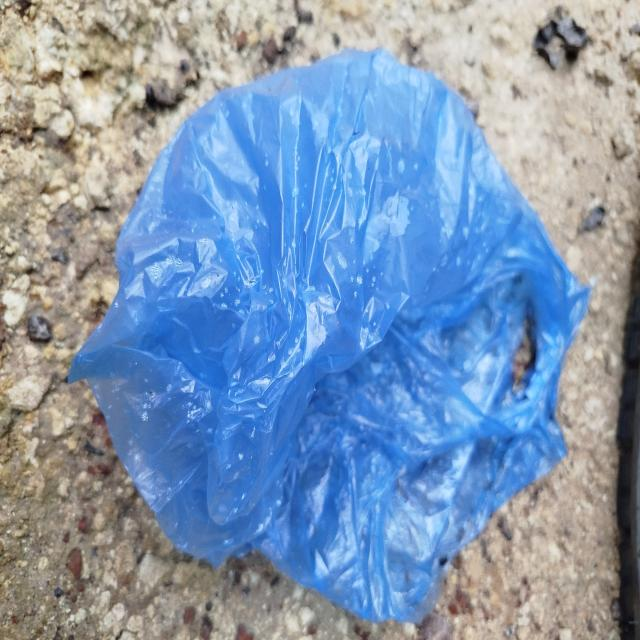residual: (61, 41, 601, 631)
